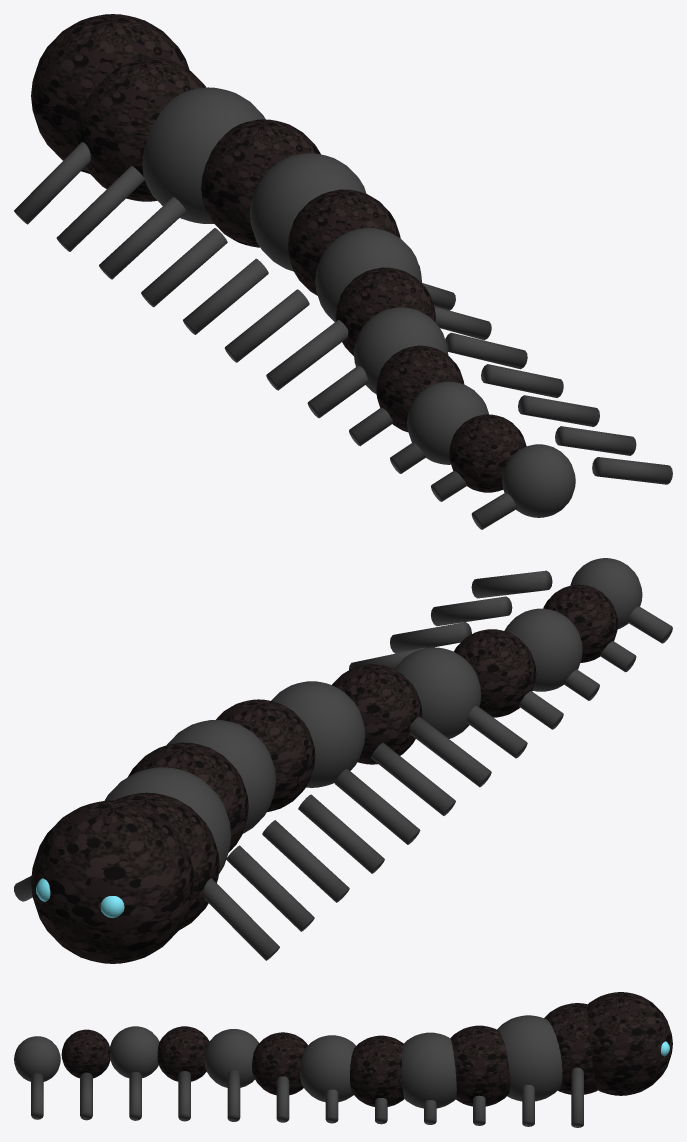
Rendered from omukade.glb.
3 renders of one model, top to bottom at view 1: azimuth 30°, elevation 25°; view 2: azimuth 150°, elevation 25°; view 3: azimuth 270°, elevation 25°, orthographic. The views are drawn at different scales.
Visible parts, largest first — view 1: Head, Segment0, Segment1, Segment2, Segment3, Segment4, Segment5, Segment11, Segment10, Segment6, Segment9, Segment8 (+17 smaller); view 2: Head, Segment5, Segment6, Segment4, Segment7, Segment8, Segment3, Segment9, Segment2, Segment1, Segment0, Segment10 (+16 smaller); view 3: Head, Segment1, Segment2, Segment3, Segment4, Segment5, Segment0, Segment6, Segment7, Segment8, Segment9, Segment10 (+13 smaller).
Part boxes in pixels (<box>): Head: <box>31,14,189,173</box>; Segment0: <box>76,57,206,201</box>; Segment1: <box>142,87,265,223</box>; Segment2: <box>201,119,320,247</box>; Segment3: <box>249,153,366,271</box>; Segment4: <box>288,189,400,295</box>; Segment5: <box>315,228,421,321</box>; Segment11: <box>502,444,575,517</box>; Segment10: <box>449,414,526,492</box>; Segment6: <box>335,267,435,355</box>; Segment9: <box>407,381,488,464</box>; Segment8: <box>376,345,464,432</box>; Head: <box>31,800,194,963</box>; Segment5: <box>271,681,365,787</box>; Segment6: <box>332,664,422,764</box>; Segment4: <box>216,699,315,811</box>; Segment7: <box>394,647,481,738</box>; Segment8: <box>454,629,536,717</box>; Segment3: <box>167,720,276,833</box>; Segment9: <box>504,608,582,691</box>; Segment2: <box>127,742,248,852</box>; Segment1: <box>104,767,231,874</box>; Segment0: <box>115,792,219,930</box>; Segment10: <box>543,584,617,662</box>; Head: <box>587,992,672,1095</box>; Segment1: <box>497,1015,562,1101</box>; Segment2: <box>450,1025,510,1106</box>; Segment3: <box>402,1032,456,1108</box>; Segment4: <box>350,1035,403,1106</box>; Segment5: <box>300,1035,355,1102</box>; Segment0: <box>544,1003,597,1094</box>; Segment6: <box>252,1032,308,1095</box>; Segment7: <box>204,1029,258,1087</box>; Segment8: <box>157,1026,209,1081</box>; Segment9: <box>110,1026,159,1078</box>; Segment10: <box>61,1029,110,1078</box>.
Bounding box in the file's own units: 0.2919 × 0.1582 × 1.
Materials: 3 (1 with a texture image).
